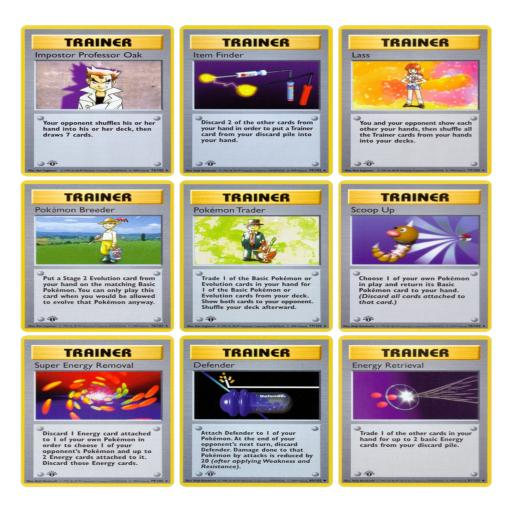card: (338, 335, 492, 487), (179, 24, 332, 176), (338, 24, 491, 176), (180, 180, 333, 332), (20, 180, 174, 331), (21, 334, 173, 486), (180, 335, 332, 487), (21, 25, 173, 176), (339, 180, 491, 331)
